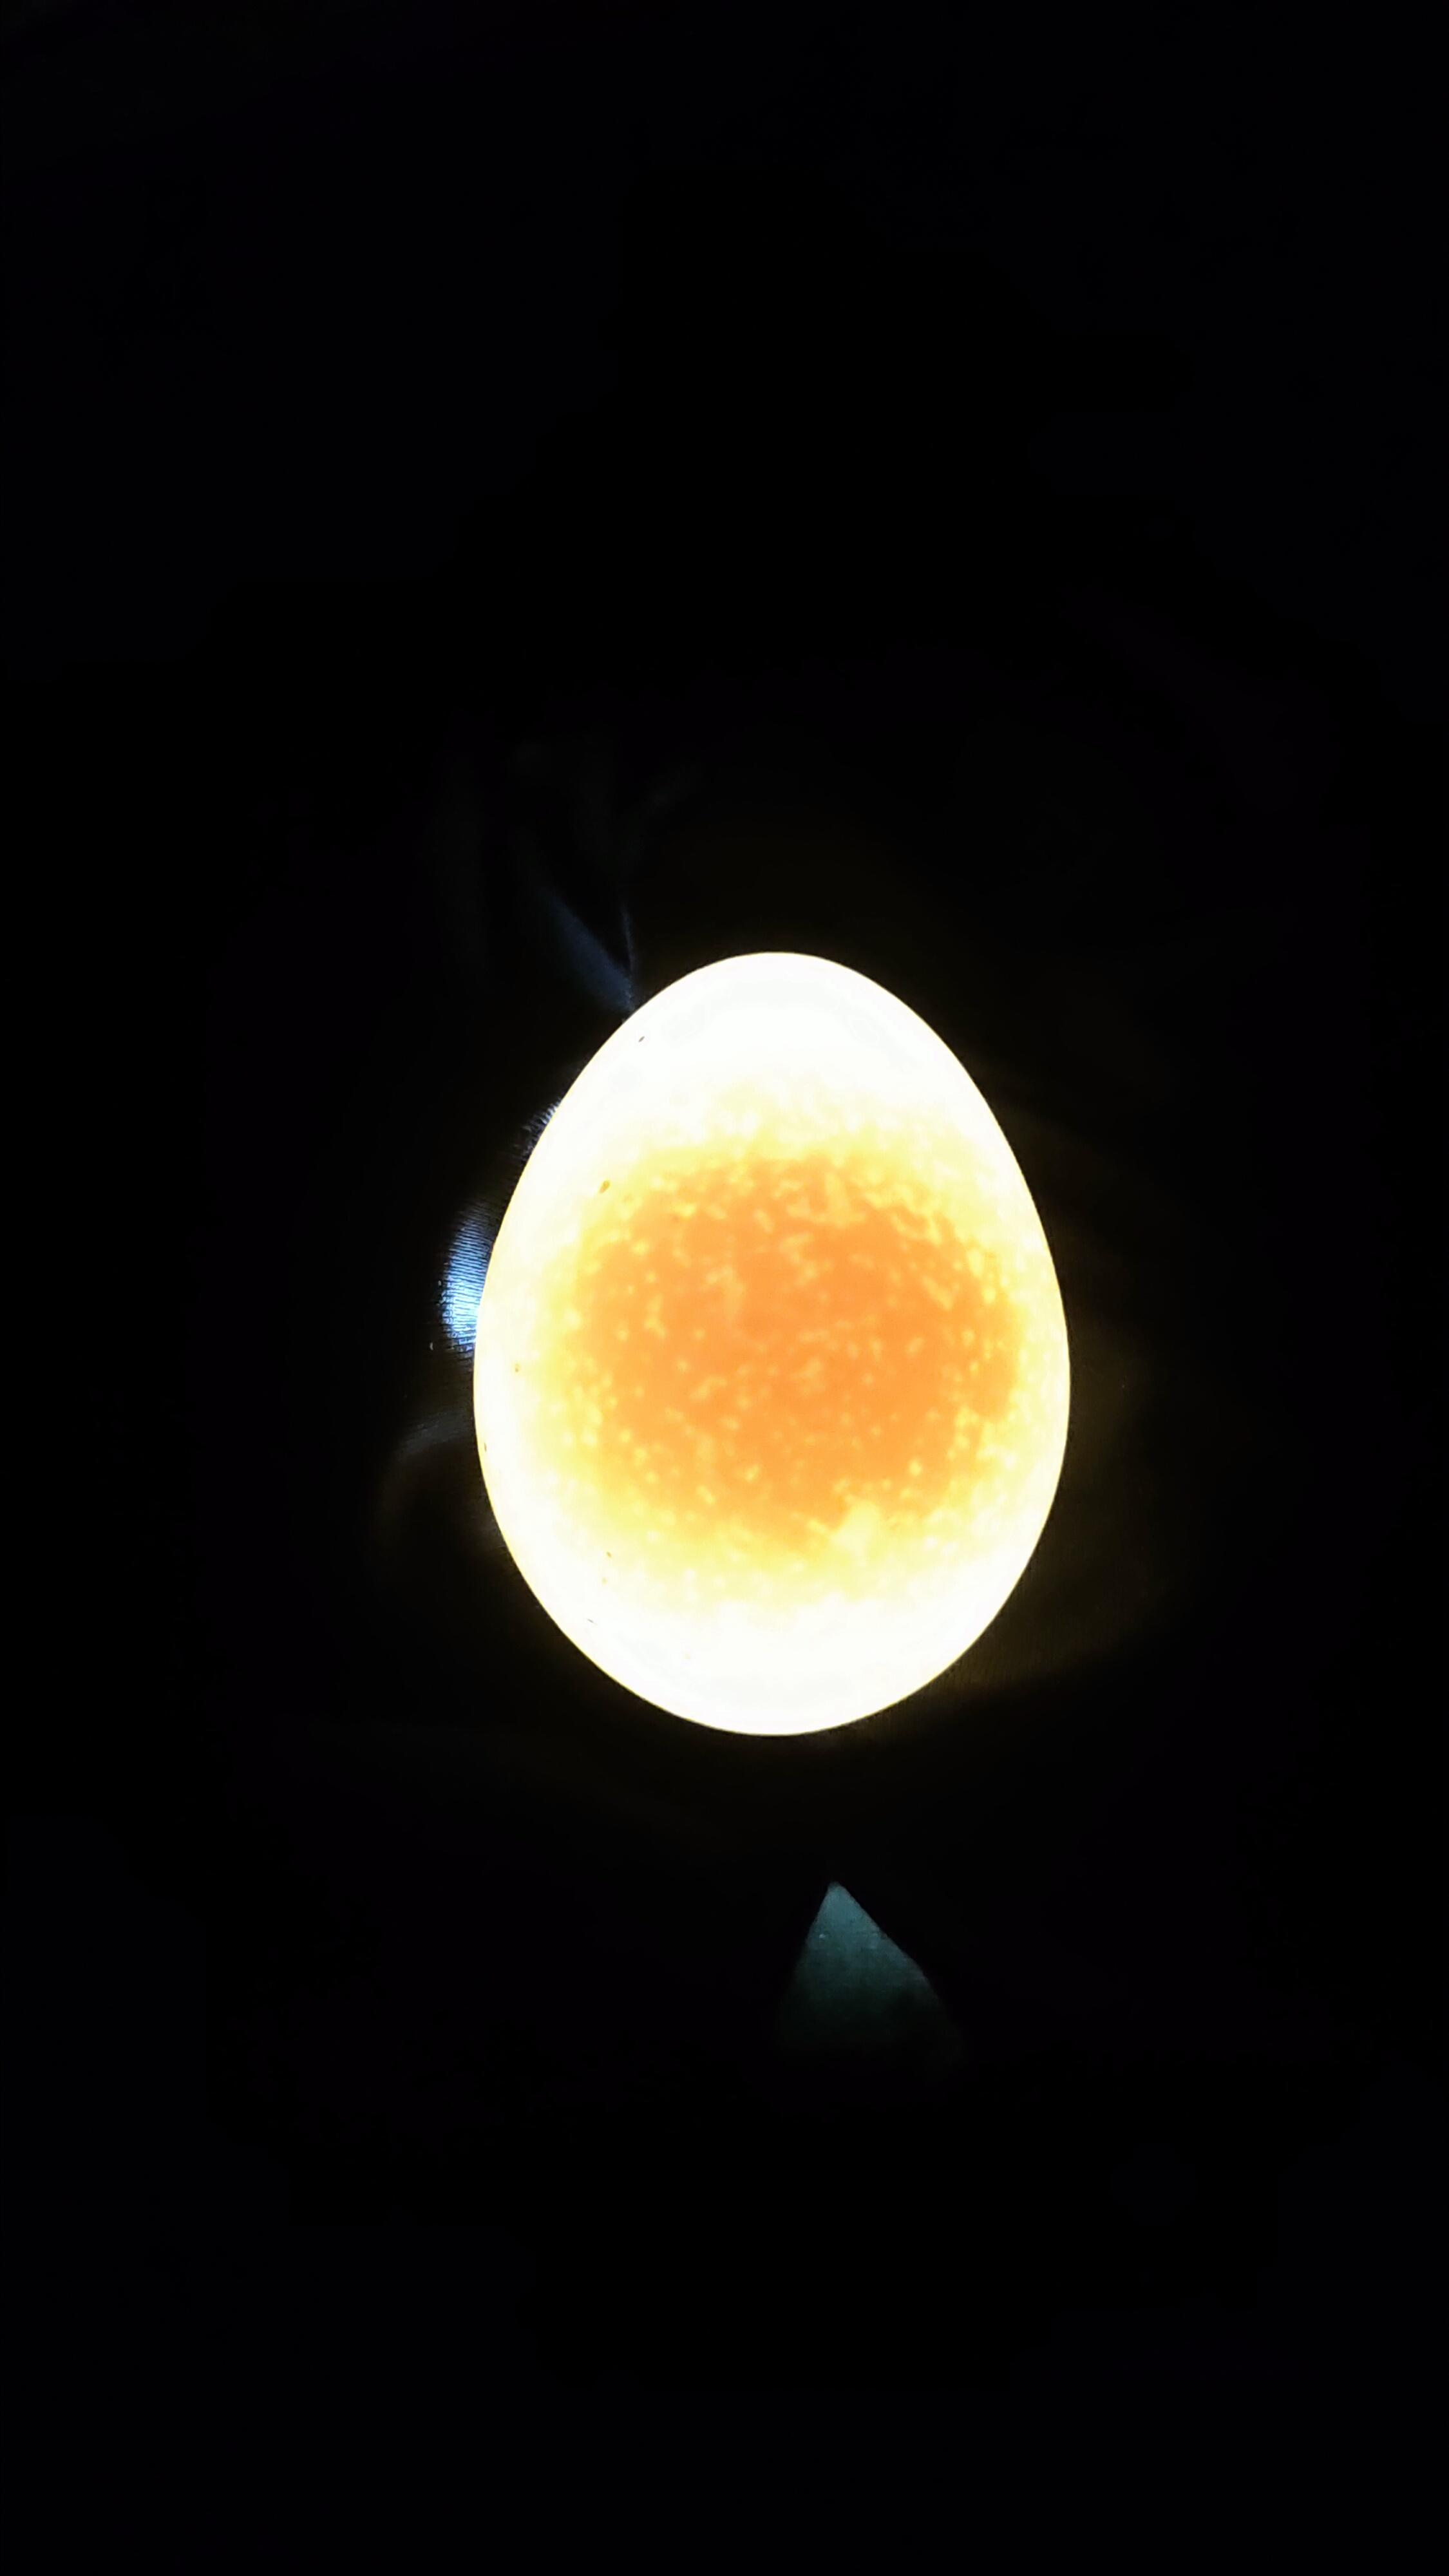Inedible: (456, 915, 1095, 1778)
